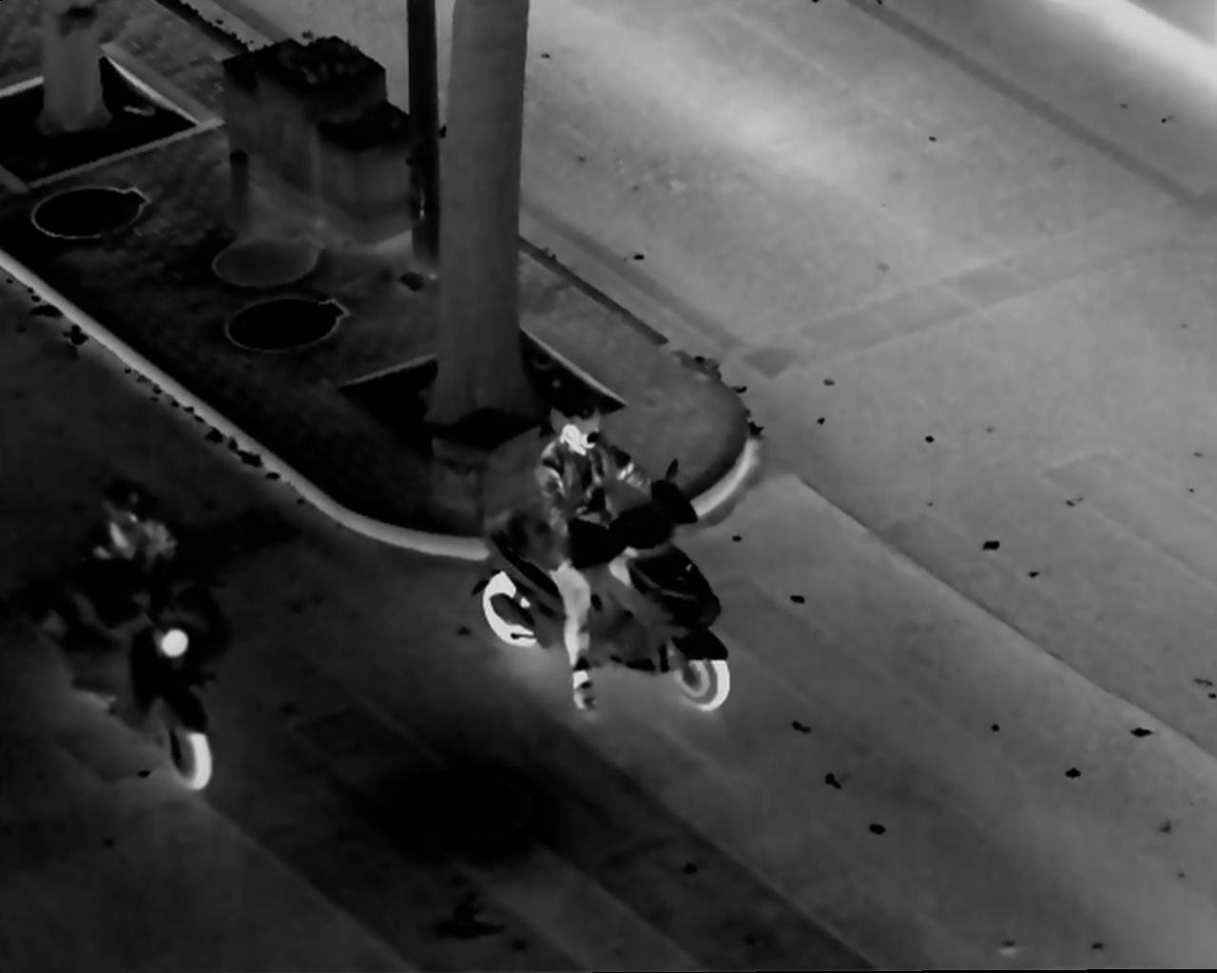person: (535, 396, 668, 733)
